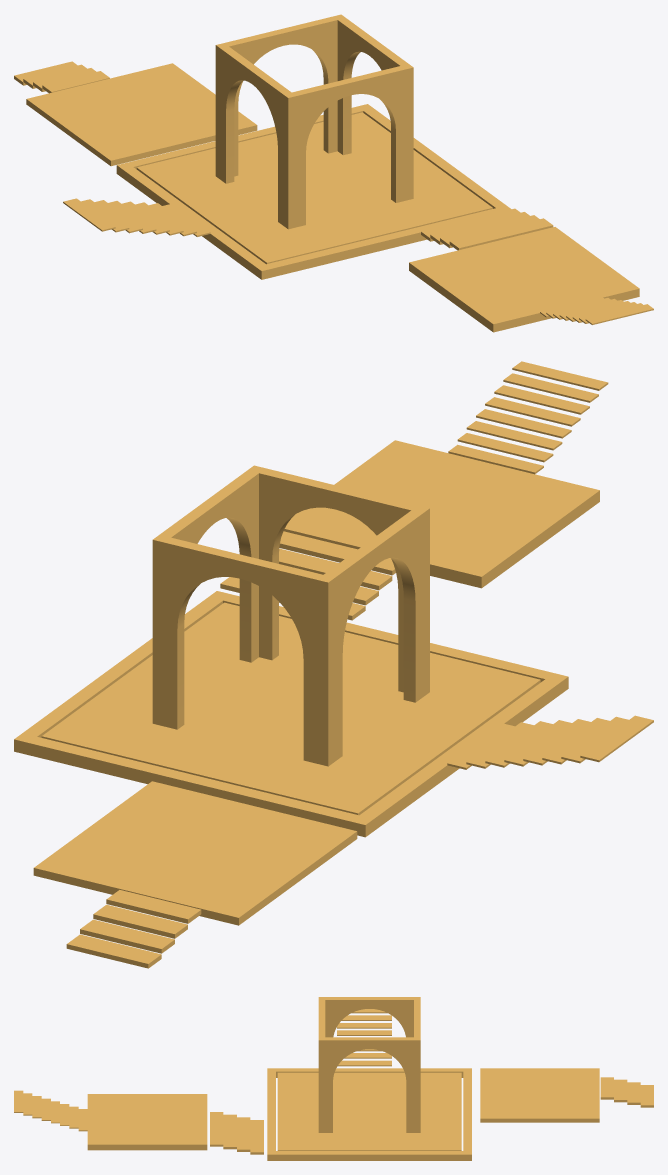
Rendered from OU_AR_Philology_01_D.fbx.
The picture shows the model from 3 angles, top to bottom: view 1: azimuth 30°, elevation 25°; view 2: azimuth 150°, elevation 25°; view 3: azimuth 270°, elevation 25°; orthographic projection. The views are drawn at different scales.
Visible parts, largest first — view 1: OU_AR_Philology_01_D; view 2: OU_AR_Philology_01_D; view 3: OU_AR_Philology_01_D.
Part boxes in pixels (x1,y1,x2,y2): OU_AR_Philology_01_D: (14, 14, 653, 332); OU_AR_Philology_01_D: (14, 361, 653, 968); OU_AR_Philology_01_D: (14, 997, 653, 1160).
Size of the model in its own units: 1727 by 666 by 3753.
